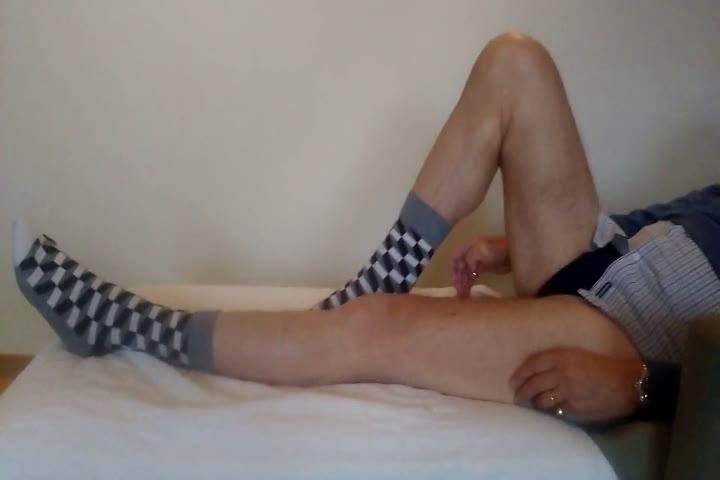lower_body: (9, 25, 688, 433)
